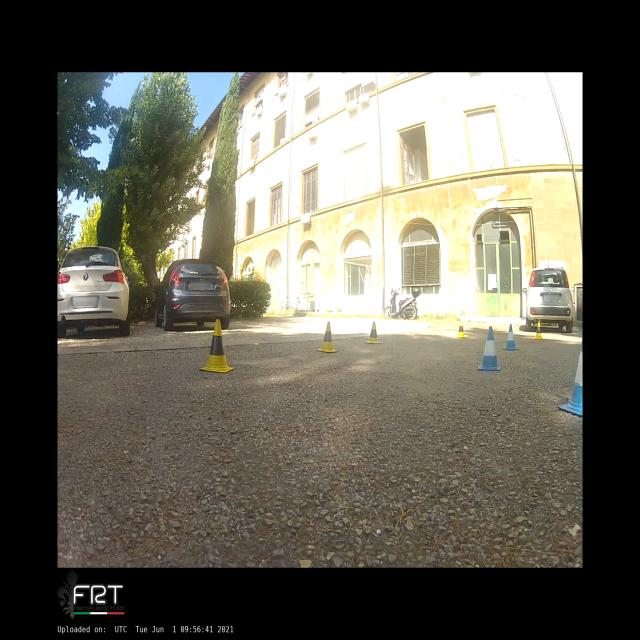blue_cone: (557, 338, 582, 417), (478, 326, 500, 371), (502, 324, 519, 351)
yellow_cone: (199, 318, 235, 373), (317, 322, 338, 352), (364, 321, 382, 344), (456, 321, 466, 338), (534, 322, 543, 340)
